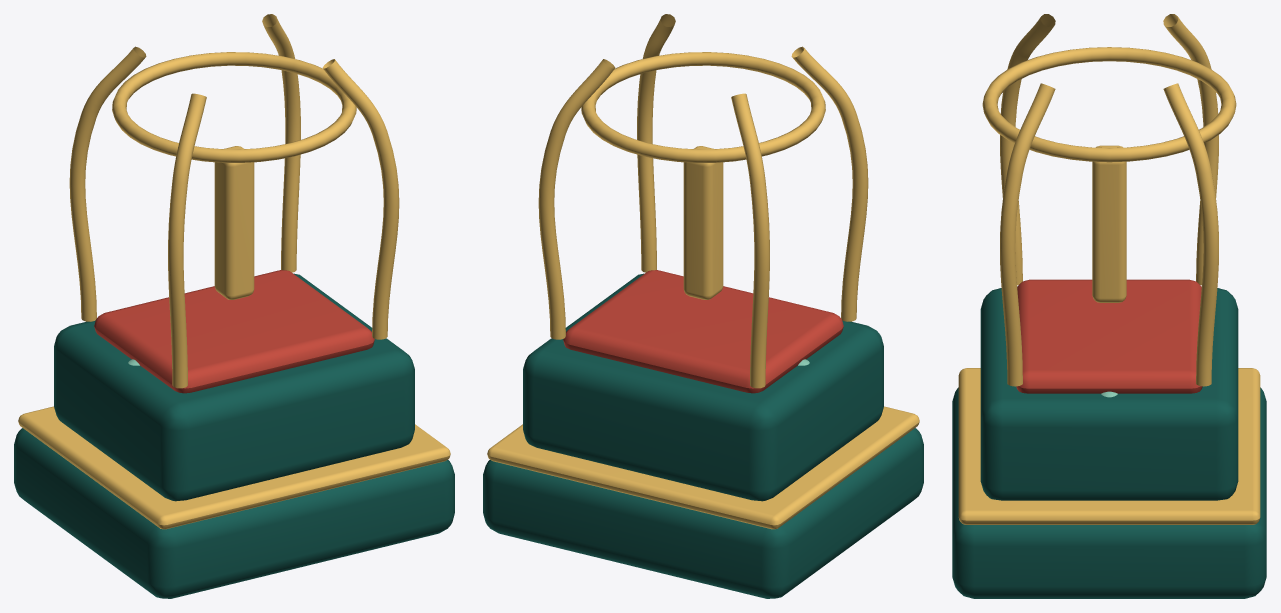
3 renders of one model, left to right at view 1: azimuth 30°, elevation 25°; view 2: azimuth 150°, elevation 25°; view 3: azimuth 270°, elevation 25°, orthographic. The views are drawn at different scales.
Visible parts, largest first — view 1: Jade footing, Brass welt, Velvet cushion, Golden fry; view 2: Jade footing, Brass welt, Velvet cushion, Golden fry; view 3: Jade footing, Brass welt, Velvet cushion, Golden fry.
Boxes of the visible parts, x1,y1,x2,y2 form: Jade footing: (14,273,454,598); Brass welt: (18,14,450,529); Velvet cushion: (94,270,374,393); Golden fry: (214,146,254,299); Jade footing: (483,273,923,598); Brass welt: (487,14,919,529); Velvet cushion: (563,270,843,393); Golden fry: (683,146,723,299); Jade footing: (952,288,1266,598); Brass welt: (958,14,1260,524); Velvet cushion: (1016,279,1202,393); Golden fry: (1092,145,1126,302).
Size of the model in its own units: 0.58 by 0.8425 by 0.5.
